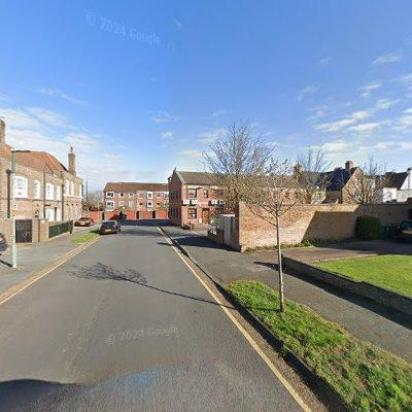stationary-car-onstreet: (100, 220, 120, 234), (75, 216, 93, 226)
